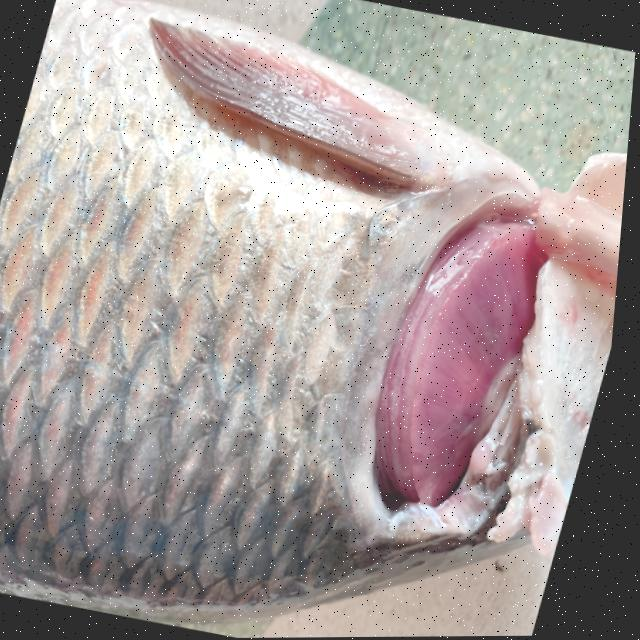Fresh: (0, 10, 439, 632), (340, 146, 590, 536)
